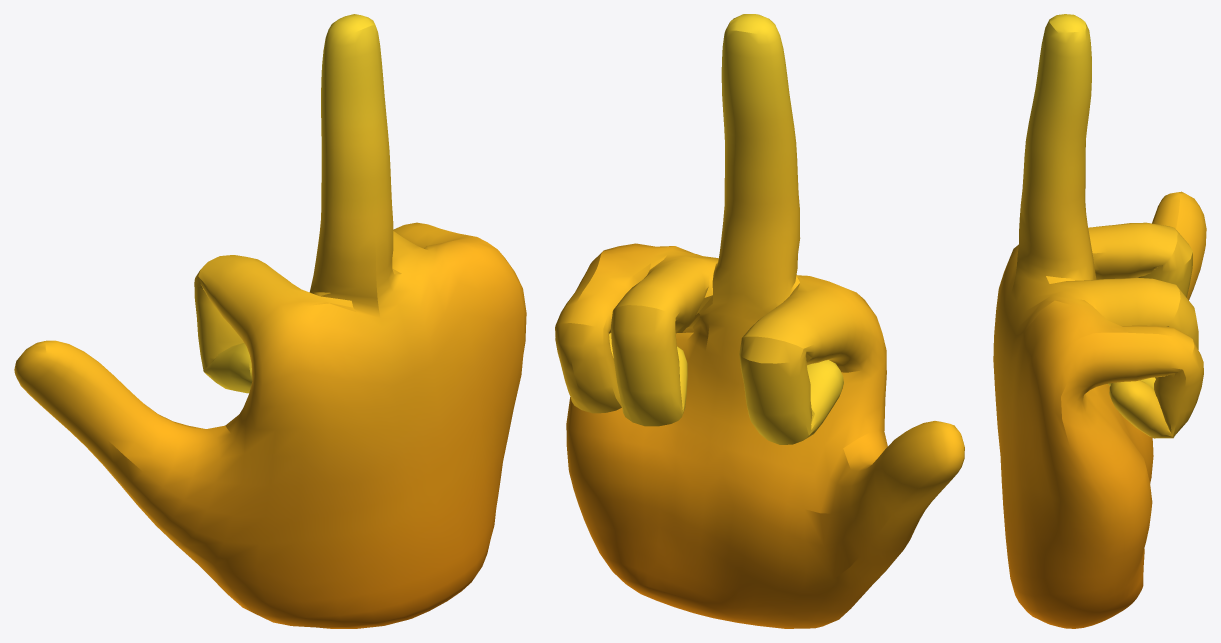
The model's file is middle_finger.glb.
3 renders of one model, left to right at view 1: azimuth 30°, elevation 25°; view 2: azimuth 150°, elevation 25°; view 3: azimuth 270°, elevation 25°, orthographic. The views are drawn at different scales.
Visible parts, largest first — view 1: hand.023; view 2: hand.023; view 3: hand.023.
Part boxes in pixels (box(x1,y1,x2,y2)): hand.023: box(14, 14, 526, 628); hand.023: box(555, 14, 964, 628); hand.023: box(993, 14, 1206, 628).
Size of the model in its own units: 1.51 by 1.95 by 0.6552.
2 materials, 2 textured.
